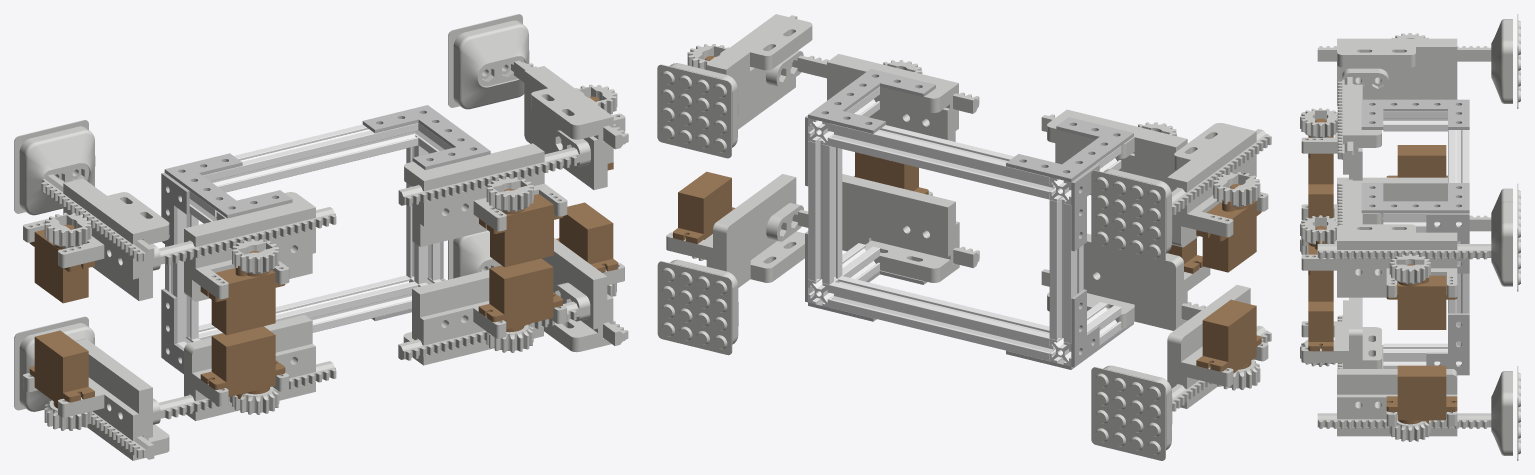
Rendered from Assembler_4Leg.fbx.
3 renders of one model, left to right at view 1: azimuth 30°, elevation 25°; view 2: azimuth 150°, elevation 25°; view 3: azimuth 270°, elevation 25°, orthographic. The views are drawn at different scales.
Visible parts, largest first — view 1: Body1 (×26), Body5 (×4), Body6 (×5), Body29, Body23, Body4 (×3), Body28, Body17, Body21, Body11, Body20, Body16 (+1 smaller); view 2: Body1 (×21), Body5 (×4), Body6 (×3), Body23, Body29, Body28, Body27, Body21, Body17, Body2, Body11, Body16 (+5 smaller); view 3: Body1 (×22), Body5 (×4), Body6 (×4), Body4 (×2), Body9, Body25, Body27, Body21, Body17, Body19, Body29, Body16 (+2 smaller).
Part boxes in pixels (x1=…): Body1 (×26): x1=14, y1=14, x2=628, y2=460; Body5 (×4): x1=23, y1=178, x2=624, y2=365; Body6 (×5): x1=41, y1=145, x2=628, y2=360; Body29: x1=203, y1=123, x2=418, y2=192; Body23: x1=198, y1=275, x2=418, y2=339; Body4 (×3): x1=44, y1=212, x2=533, y2=352; Body28: x1=165, y1=208, x2=198, y2=342; Body17: x1=189, y1=182, x2=292, y2=218; Body21: x1=412, y1=123, x2=490, y2=170; Body11: x1=161, y1=288, x2=183, y2=373; Body20: x1=362, y1=105, x2=452, y2=133; Body16: x1=164, y1=153, x2=242, y2=190; Body1 (×21): x1=657, y1=14, x2=1271, y2=460; Body5 (×4): x1=666, y1=109, x2=1268, y2=287; Body6 (×3): x1=766, y1=129, x2=1271, y2=284; Body23: x1=830, y1=276, x2=1055, y2=360; Body29: x1=830, y1=123, x2=1055, y2=199; Body28: x1=1049, y1=197, x2=1083, y2=343; Body27: x1=808, y1=243, x2=879, y2=307; Body21: x1=833, y1=69, x2=935, y2=104; Body17: x1=1056, y1=117, x2=1133, y2=163; Body2: x1=1049, y1=302, x2=1121, y2=366; Body11: x1=1071, y1=289, x2=1099, y2=367; Body16: x1=1006, y1=154, x2=1096, y2=181; Body1 (×22): x1=1300, y1=14, x2=1520, y2=460; Body5 (×4): x1=1301, y1=38, x2=1457, y2=436; Body6 (×4): x1=1317, y1=46, x2=1491, y2=428; Body4 (×2): x1=1300, y1=108, x2=1430, y2=441; Body9: x1=1426, y1=313, x2=1469, y2=373; Body25: x1=1383, y1=111, x2=1447, y2=131; Body27: x1=1383, y1=343, x2=1461, y2=368; Body21: x1=1361, y1=183, x2=1426, y2=213; Body17: x1=1361, y1=99, x2=1426, y2=129; Body19: x1=1426, y1=213, x2=1469, y2=273; Body29: x1=1448, y1=130, x2=1469, y2=182; Body16: x1=1426, y1=99, x2=1469, y2=129.
Size of the model in its own units: 261 by 120 by 102.
